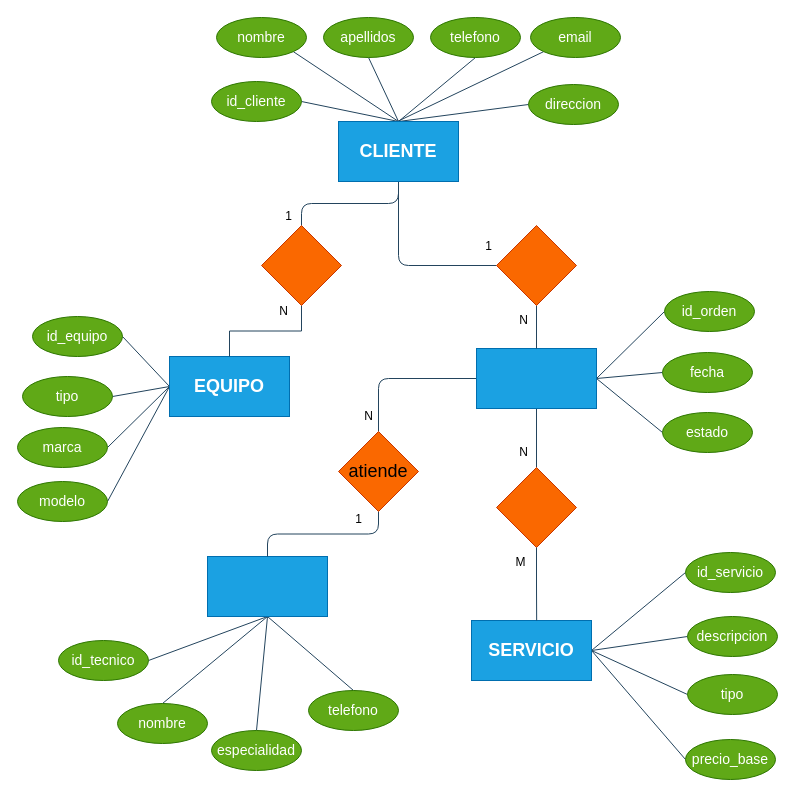
Some shapes in this 795 by 797 pixel diagram are drawn without their labels. Here are the shapes that lost their labels. From the top down, the centre of each, then its label:
At (x=301, y=265): "tiene".
At (x=536, y=265): "realiza".
At (x=536, y=378): "ORDEN".
At (x=536, y=507): "incluye".
At (x=267, y=586): "TECNICO".
